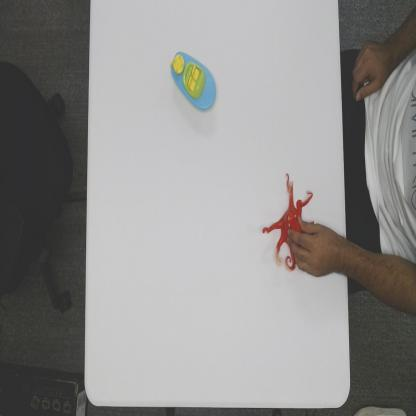Boat: (169, 48, 217, 113)
Hand: (286, 216, 350, 279)
Octopus: (262, 171, 316, 272)
